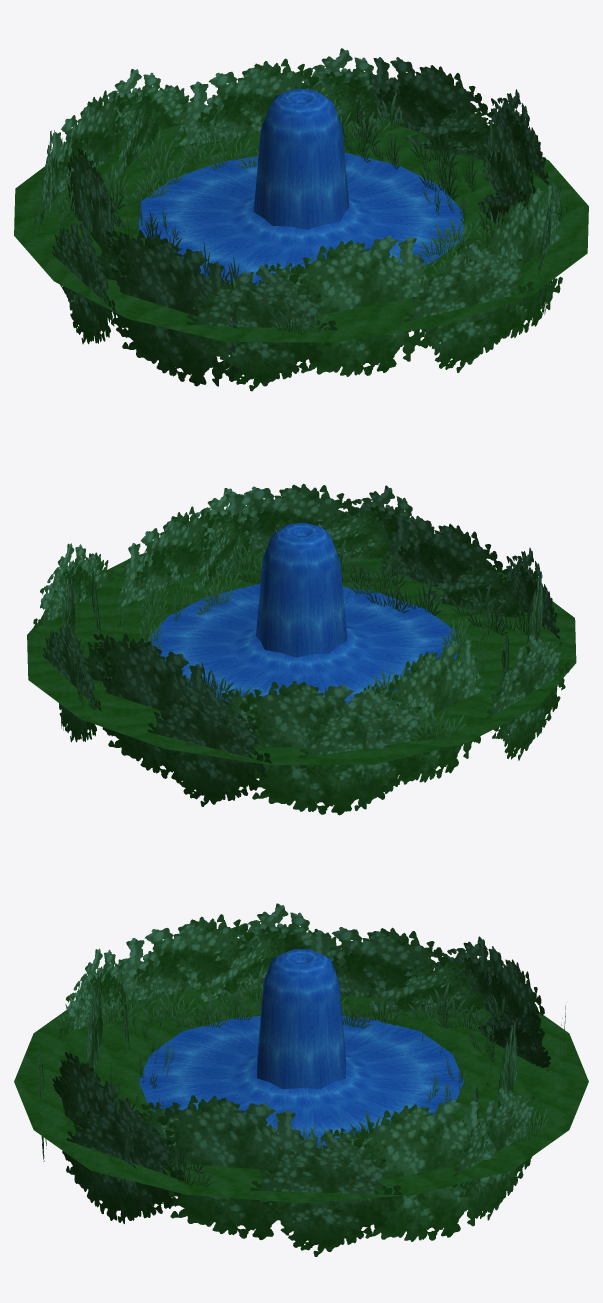
The model's file is testscene.obj.
3 views of the same model, one above another, from view 1: azimuth 30°, elevation 25°; view 2: azimuth 150°, elevation 25°; view 3: azimuth 270°, elevation 25° (orthographic). The views are drawn at different scales.
Parts seen in each view (by area): view 1: Foliage, Waterfall, Ground; view 2: Foliage, Waterfall, Ground; view 3: Foliage, Ground, Waterfall.
Boxes of the visible parts, x1,y1,x2,y2 form: Foliage: [32, 48, 569, 391]; Waterfall: [139, 88, 463, 285]; Ground: [14, 116, 588, 342]; Foliage: [33, 483, 569, 815]; Waterfall: [146, 522, 456, 704]; Ground: [27, 551, 576, 764]; Foliage: [37, 903, 566, 1256]; Ground: [14, 986, 588, 1203]; Waterfall: [139, 949, 463, 1149].
Size of the model in its own units: 7.44 by 3.19 by 7.44.
5 materials, 5 textured.
